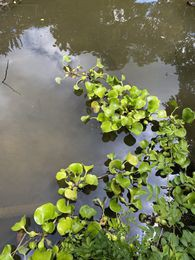water_hyacinth: (51, 42, 159, 142)
